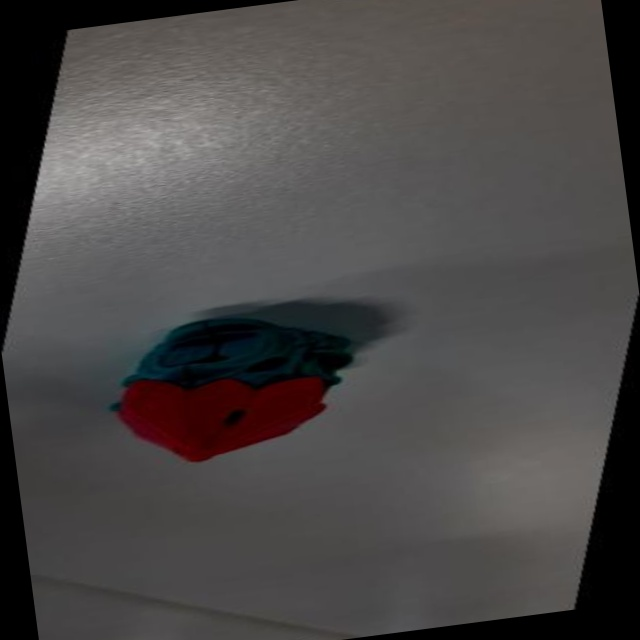House: (74, 289, 408, 496)
